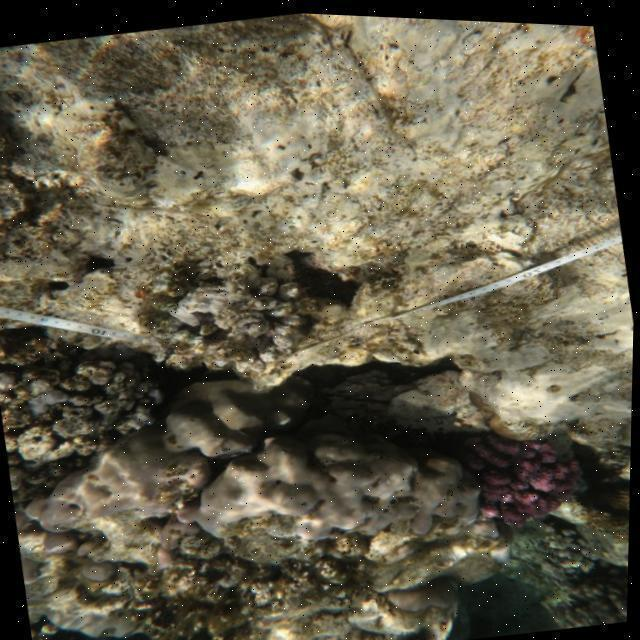Healthy Coral: (459, 415, 601, 547)
